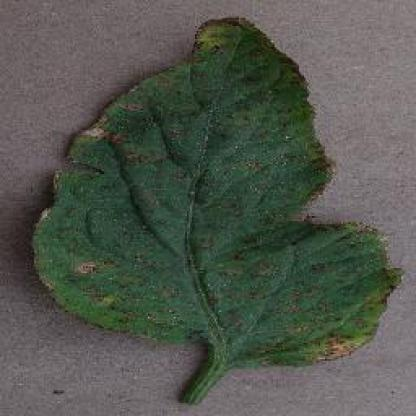bad leaf: (24, 0, 390, 415)
